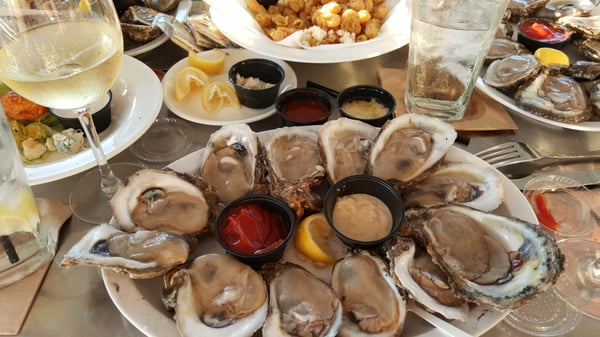pizza: (404, 0, 507, 123)
soup: (0, 89, 44, 282)
sushi: (323, 174, 404, 250), (215, 195, 296, 268), (227, 58, 285, 108)
